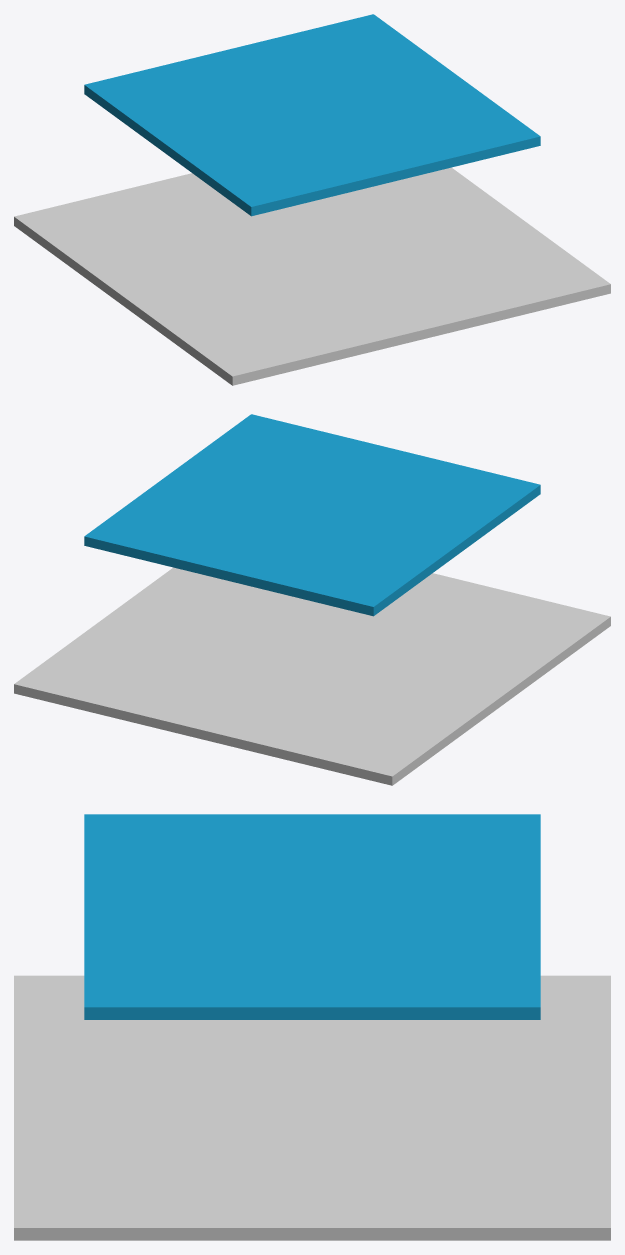
The model's file is p12_controlled_glass.obj.
3 renders of one model, top to bottom at view 1: azimuth 30°, elevation 25°; view 2: azimuth 150°, elevation 25°; view 3: azimuth 270°, elevation 25°, orthographic. The views are drawn at different scales.
Visible parts, largest first — view 1: p12_background, p12_glass_front; view 2: p12_background, p12_glass_front; view 3: p12_background, p12_glass_front.
Boxes of the visible parts, box(x1,y1,x2,y2) form: p12_background: box(14, 167, 610, 385); p12_glass_front: box(84, 14, 540, 216); p12_background: box(14, 567, 610, 785); p12_glass_front: box(84, 414, 540, 616); p12_background: box(14, 975, 610, 1240); p12_glass_front: box(84, 814, 540, 1019).
Bounding box in the file's own units: 1.7 × 0.64 × 1.7.
